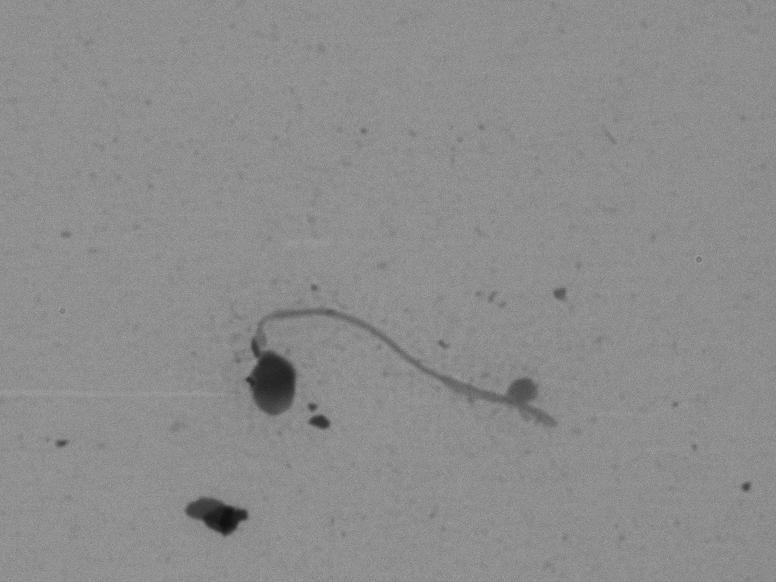Abnormal: (213, 292, 581, 439)
